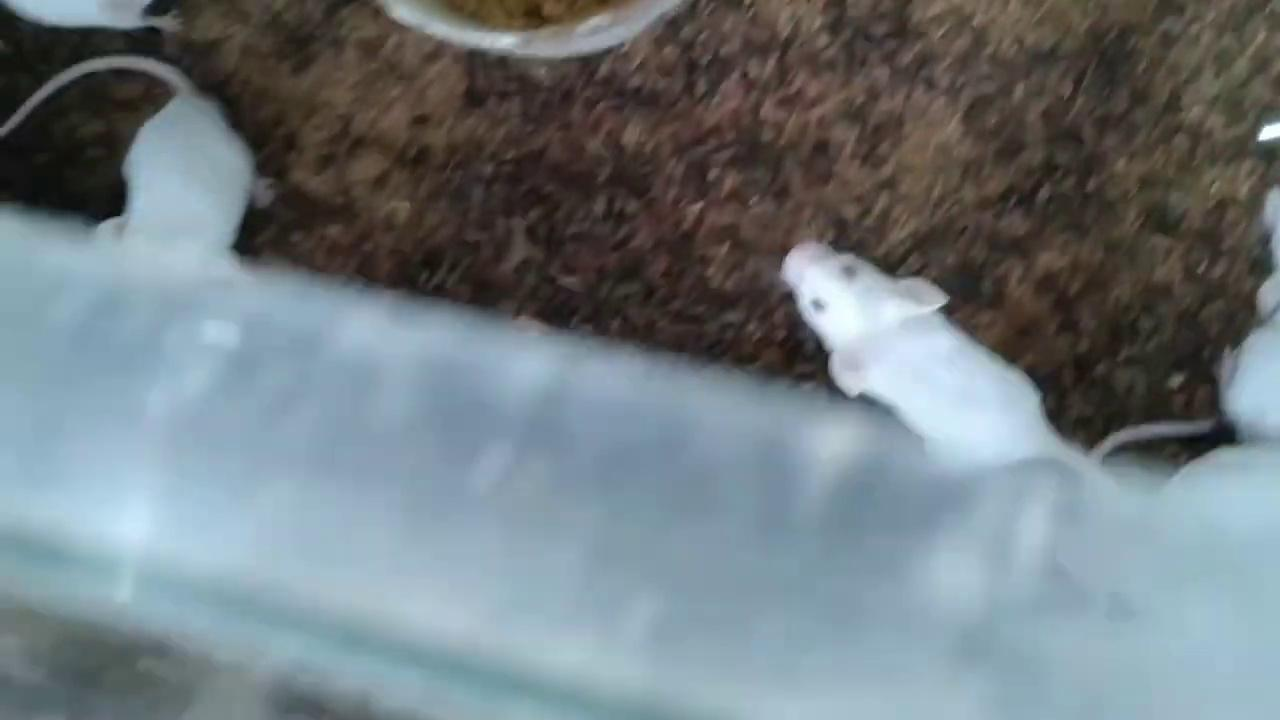rat: (783, 242, 1093, 461), (0, 56, 276, 261)
